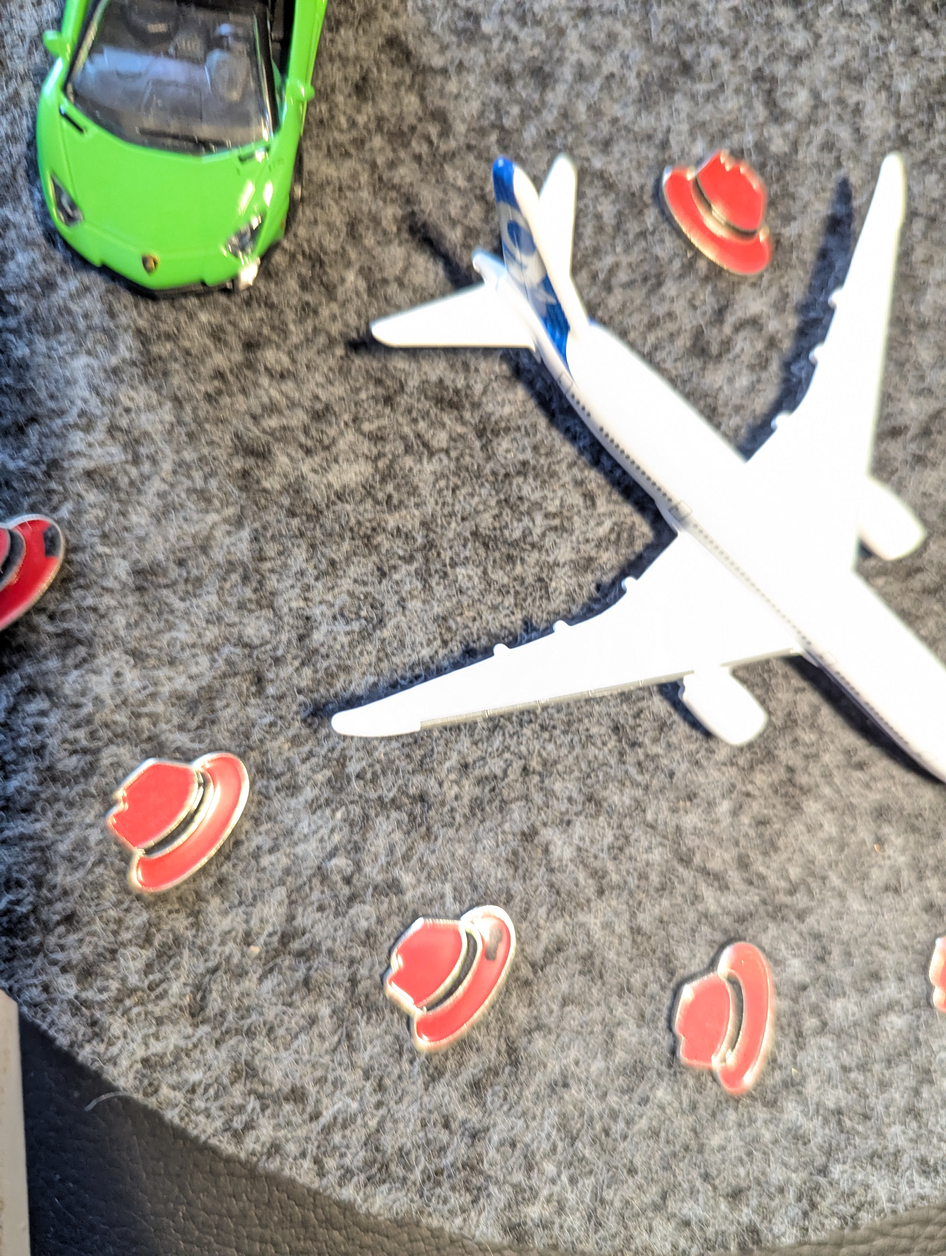Airplane: (314, 118, 946, 842)
Car: (10, 0, 334, 307)
Red-Hat: (358, 879, 565, 1096), (93, 722, 274, 906), (632, 131, 794, 300), (665, 910, 781, 1106), (0, 495, 88, 653)
Scratch: (474, 910, 535, 963), (29, 522, 74, 564)
